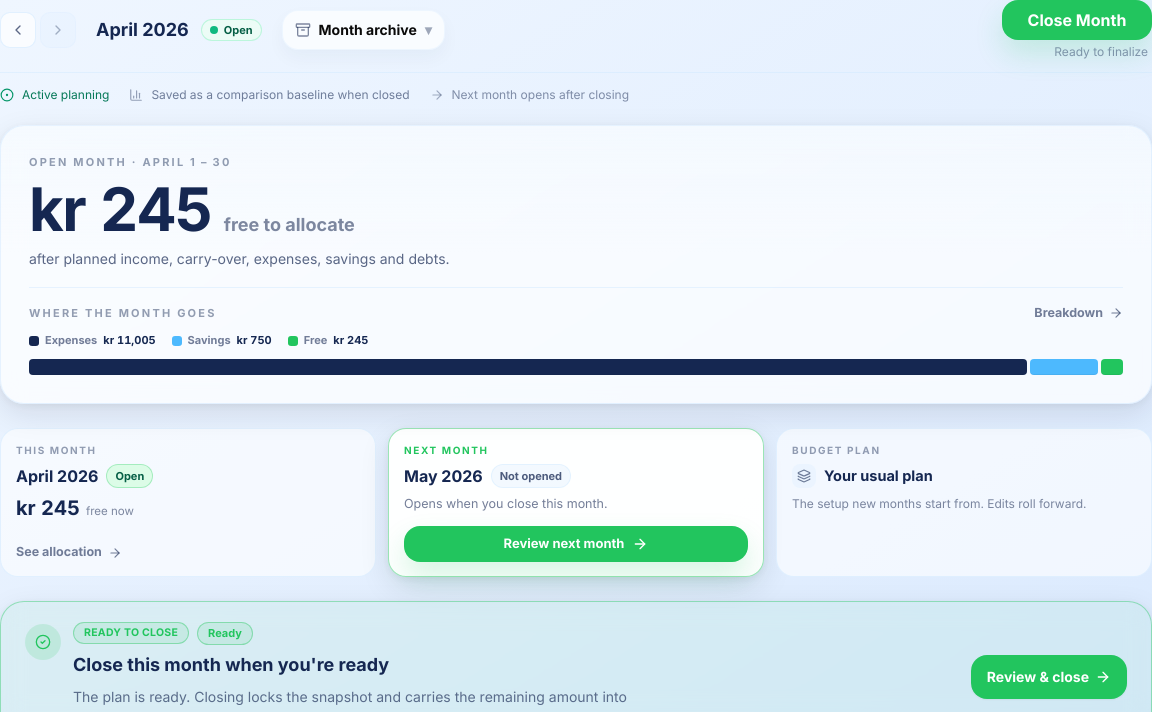
Test case: DashboardContent › submits carryOverMode none by default, lands on the closed month, and closes the modal
This screenshot has width=1152, height=712.
Click the button "Close Month" at coordinates (1077, 20), box [1002,0,1151,40]
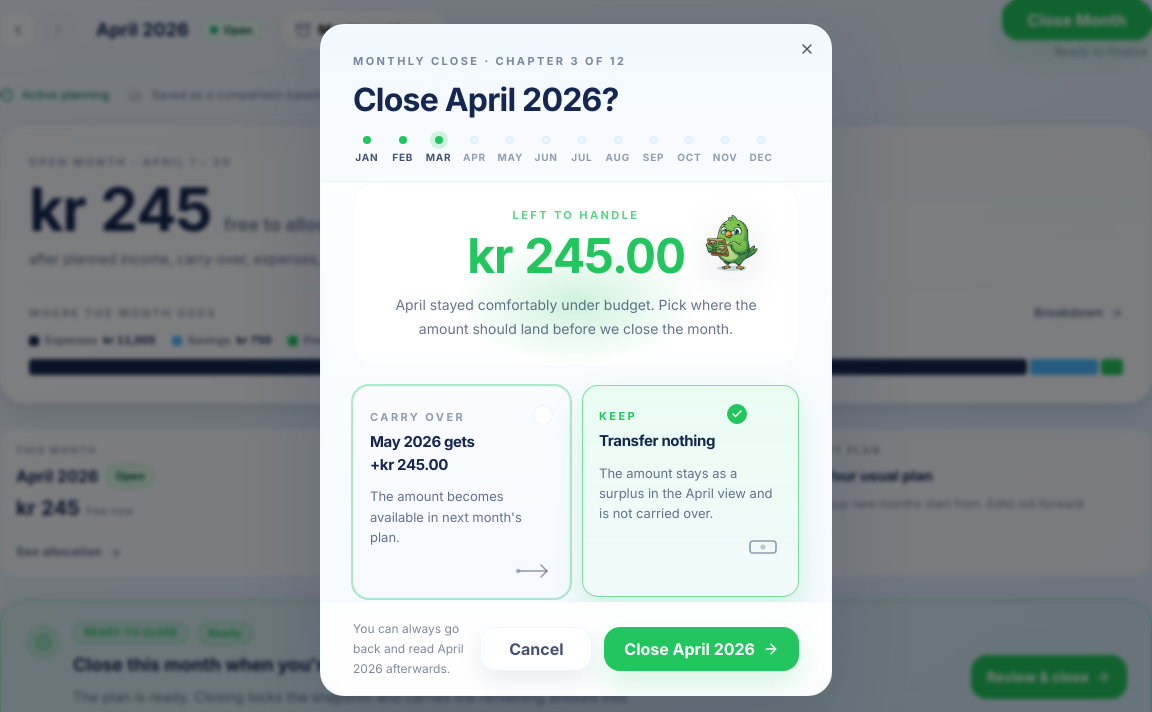
Click the button with test id "confirm-close-month" at coordinates (702, 649), box [604,627,799,671]
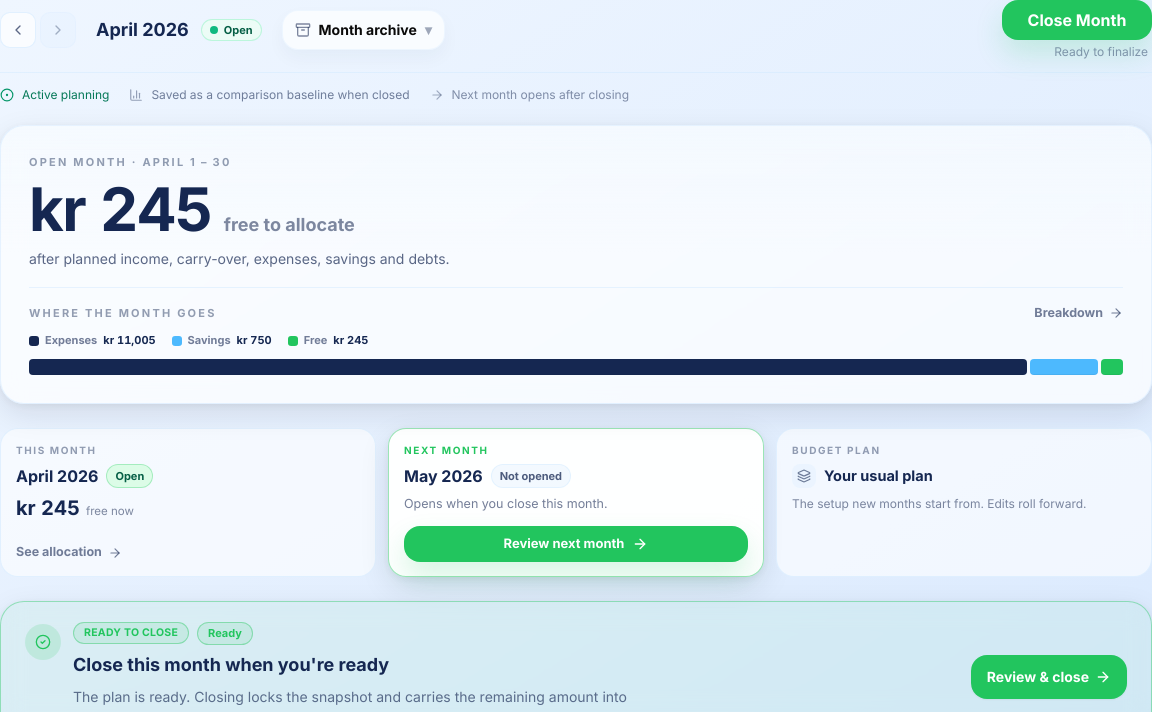
Check: the heading "Close April 2026?" is gone
